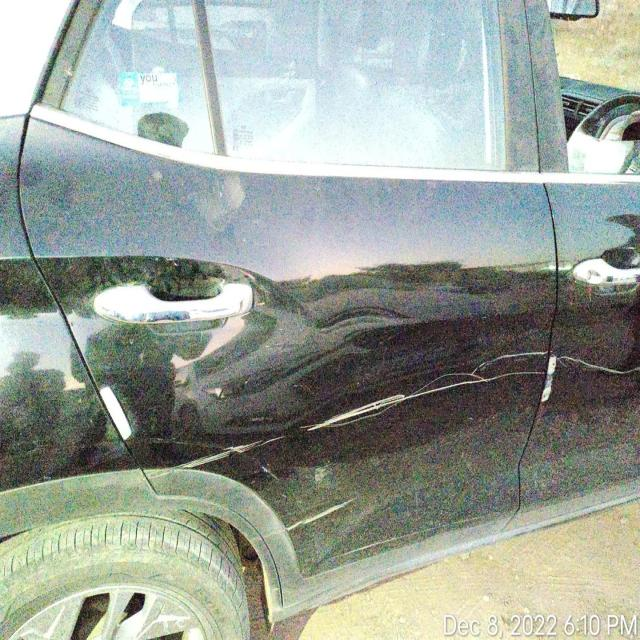damage: (176, 346, 549, 470), (285, 491, 360, 539), (553, 350, 640, 378)
